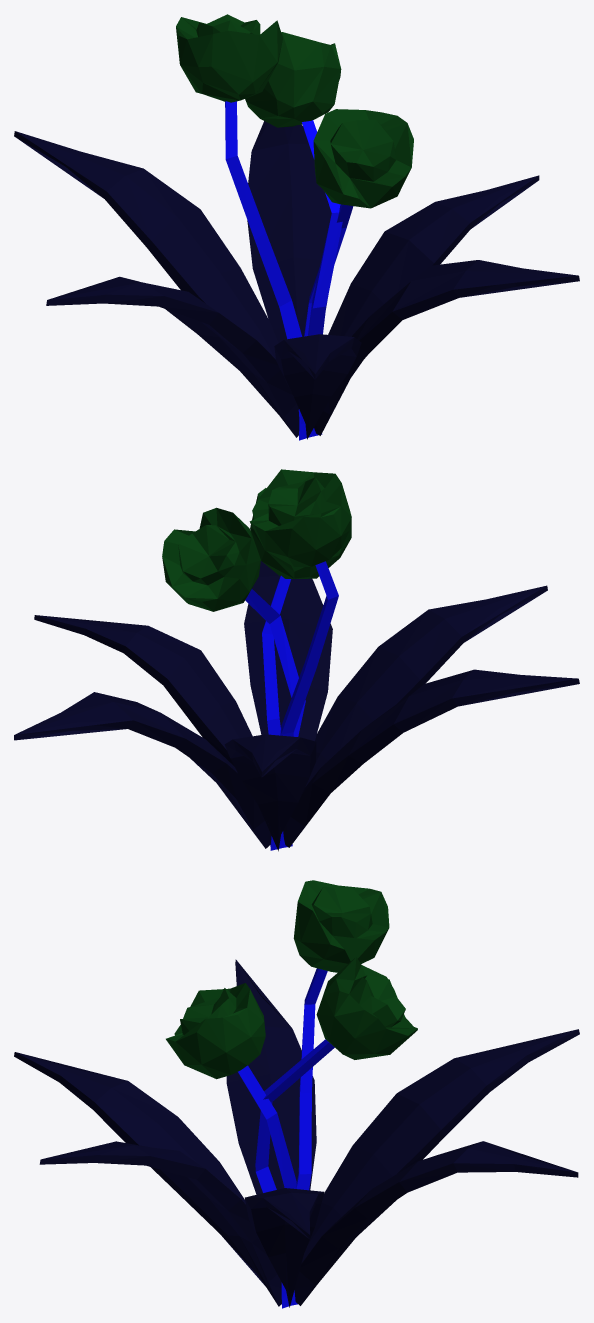
The model's file is PatchRose04.fbx.
3 renders of one model, top to bottom at view 1: azimuth 30°, elevation 25°; view 2: azimuth 150°, elevation 25°; view 3: azimuth 270°, elevation 25°, orthographic. The views are drawn at different scales.
Visible parts, largest first — view 1: PatchRose04; view 2: PatchRose04; view 3: PatchRose04.
Boxes of the visible parts, x1=… form: PatchRose04: x1=14, y1=14, x2=579, y2=440; PatchRose04: x1=14, y1=469, x2=579, y2=851; PatchRose04: x1=14, y1=880, x2=579, y2=1308.
Bounding box in the file's own units: 46.03 × 34.26 × 45.
